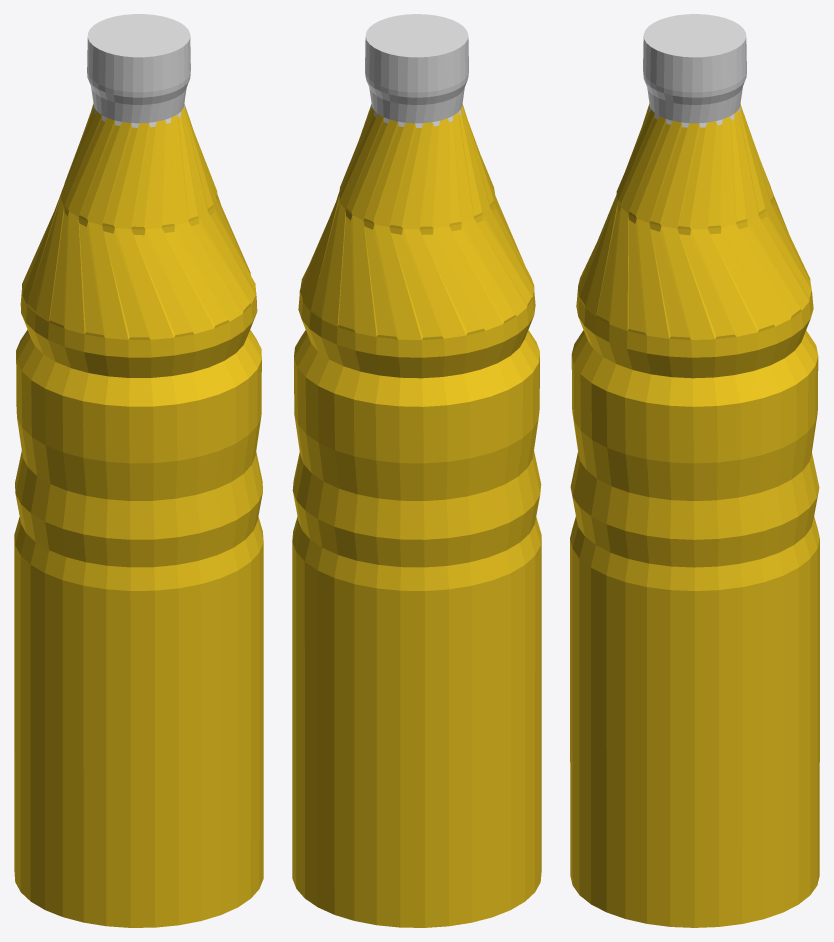
File: Oil Bottle.fbx
The picture shows the model from 3 angles, left to right: view 1: azimuth 30°, elevation 25°; view 2: azimuth 150°, elevation 25°; view 3: azimuth 270°, elevation 25°; orthographic projection.
Parts seen in each view (by area): view 1: Cylinder; view 2: Cylinder; view 3: Cylinder.
Part boxes in pixels (x1,y1,x2,y2): Cylinder: (14, 14, 263, 927); Cylinder: (292, 14, 541, 927); Cylinder: (570, 14, 819, 927).
Bounding box in the file's own units: 8.6 × 31.9 × 8.6.
